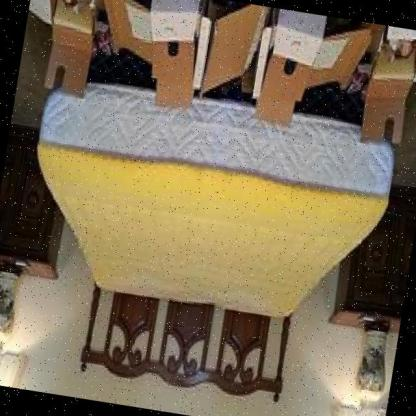Bed: (2, 45, 415, 416)
